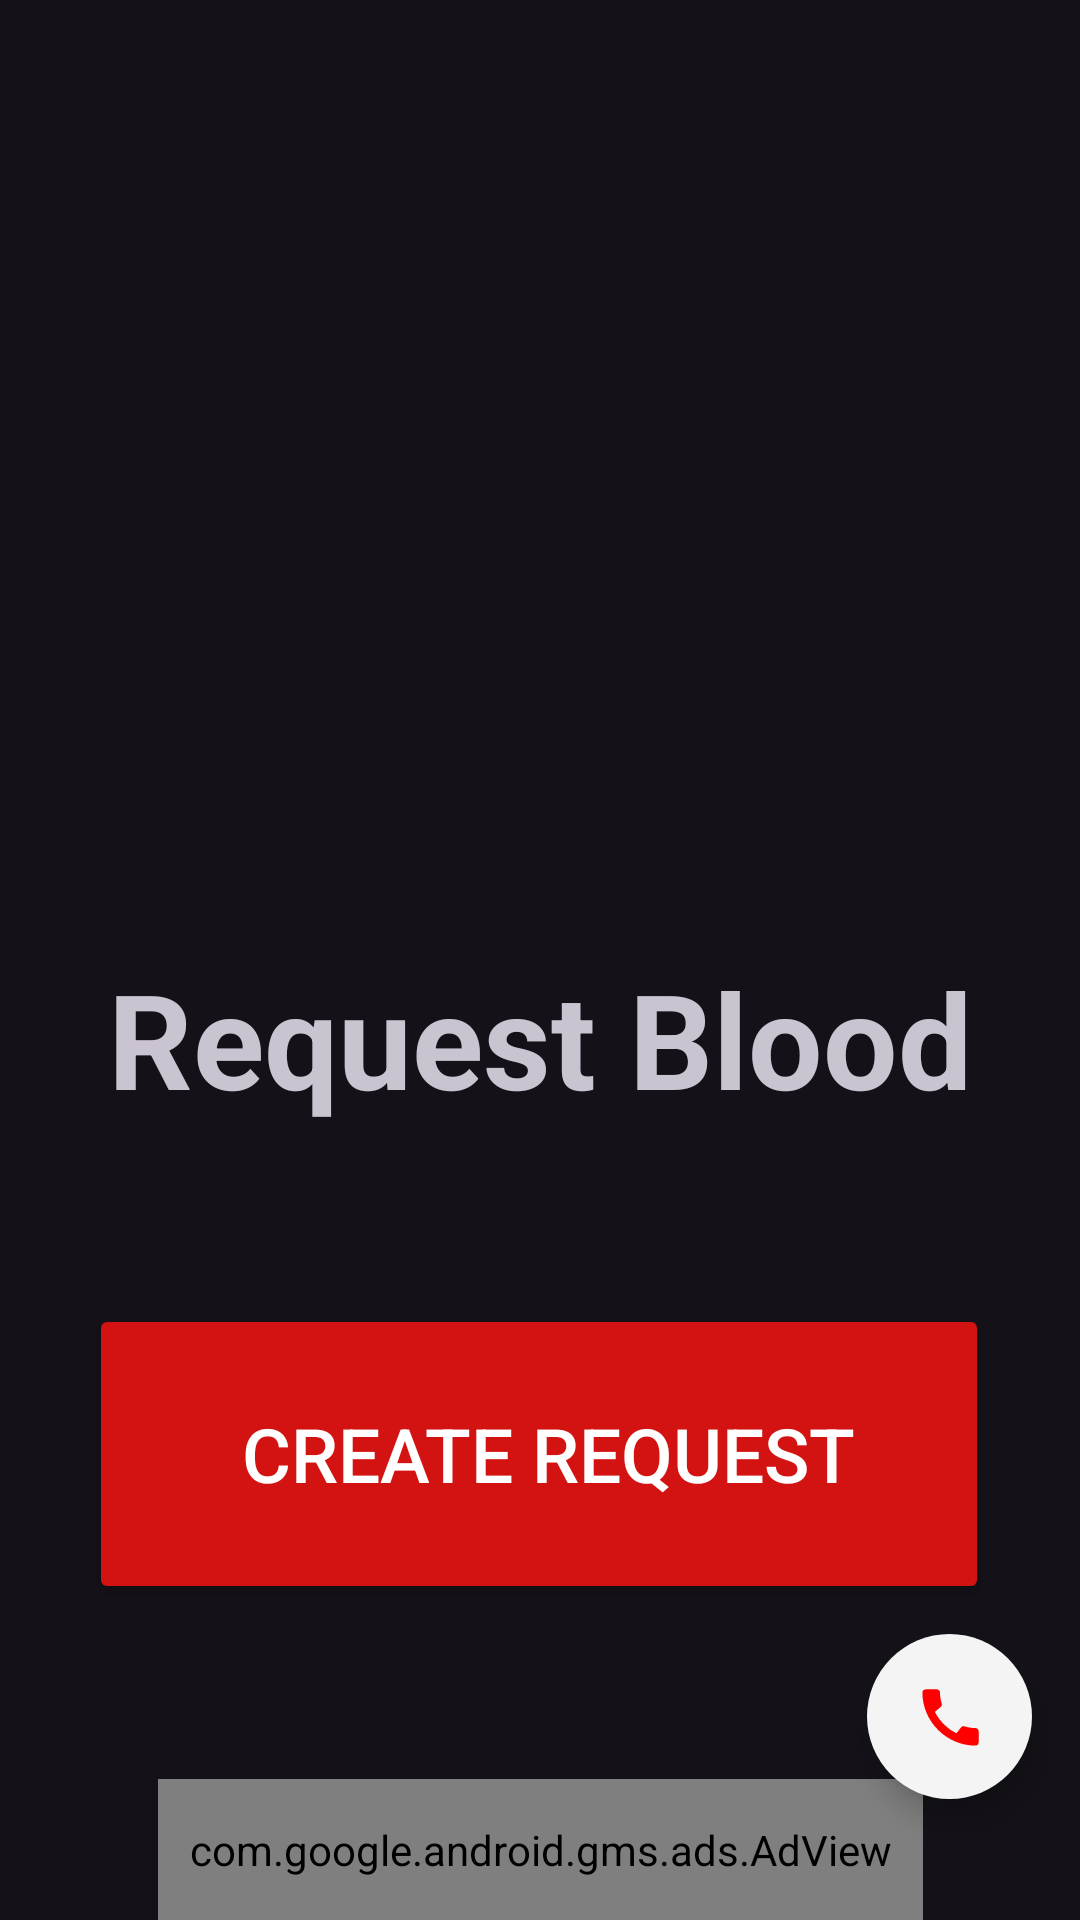

Icon click points for this 1080w x 1920h phone screenshot, format [x,y]:
call member: [949,1716]
